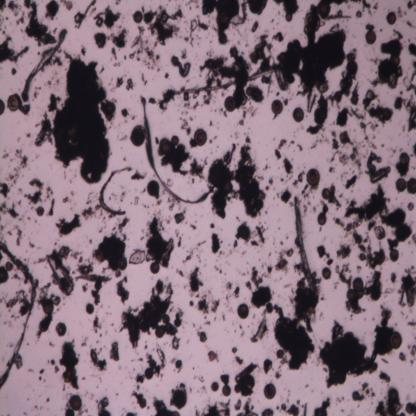Background material: (55, 50, 112, 178), (274, 26, 347, 98), (320, 320, 378, 388), (119, 280, 176, 344), (333, 186, 388, 232), (272, 314, 315, 372), (235, 137, 266, 217), (144, 211, 175, 269), (143, 7, 183, 48), (45, 243, 75, 297), (203, 47, 252, 79), (76, 264, 112, 306), (210, 156, 235, 216), (94, 232, 128, 276), (24, 2, 57, 46), (133, 343, 166, 385), (373, 303, 396, 363), (380, 208, 412, 248), (202, 2, 231, 46), (354, 231, 384, 270), (293, 283, 318, 328), (57, 341, 79, 391), (130, 37, 162, 71), (248, 266, 273, 308), (369, 58, 405, 87), (159, 144, 189, 177), (308, 94, 331, 137), (232, 221, 264, 251), (392, 96, 416, 135), (250, 33, 274, 72), (331, 148, 367, 173), (232, 360, 258, 394), (328, 75, 356, 106), (32, 112, 56, 148), (366, 150, 391, 184), (0, 36, 31, 63), (398, 266, 416, 311), (375, 385, 401, 416), (2, 287, 30, 315), (188, 290, 220, 314), (7, 154, 29, 188), (379, 29, 406, 54), (93, 6, 121, 30), (241, 265, 265, 292), (55, 214, 82, 237), (192, 400, 230, 416), (0, 2, 26, 25), (74, 1, 96, 28), (366, 270, 386, 299), (152, 396, 180, 416), (24, 178, 46, 203), (81, 196, 103, 221), (233, 73, 248, 109), (250, 318, 270, 345), (88, 345, 107, 373), (351, 380, 375, 402), (170, 52, 191, 77), (181, 92, 213, 108), (360, 122, 378, 150), (347, 289, 367, 314), (231, 1, 249, 28), (188, 264, 205, 292), (333, 262, 352, 287), (275, 248, 293, 274), (109, 29, 129, 52), (189, 158, 207, 182), (404, 61, 416, 95), (236, 397, 257, 416), (246, 0, 268, 18), (116, 277, 131, 303), (35, 315, 53, 336), (336, 105, 352, 128), (95, 396, 113, 416), (0, 202, 20, 220), (188, 17, 210, 33), (160, 85, 175, 108), (314, 396, 332, 415), (280, 0, 300, 17), (211, 231, 224, 257), (324, 10, 352, 22), (362, 88, 378, 109), (338, 130, 356, 148), (265, 300, 284, 317), (318, 243, 332, 266), (278, 186, 294, 206), (45, 187, 56, 216), (48, 92, 62, 114), (336, 243, 354, 260), (341, 173, 358, 191), (328, 186, 342, 207), (93, 30, 107, 51), (350, 80, 360, 108), (179, 117, 193, 137), (109, 341, 121, 364), (132, 389, 146, 408), (130, 248, 146, 264), (223, 281, 240, 296), (46, 2, 60, 20), (273, 140, 286, 159), (282, 403, 300, 416), (129, 170, 148, 182), (91, 314, 103, 333), (350, 108, 366, 122), (250, 86, 264, 102), (13, 226, 24, 246), (172, 308, 184, 326), (282, 158, 294, 176), (117, 215, 130, 231), (407, 341, 416, 363), (369, 108, 383, 122), (171, 358, 183, 374), (361, 0, 373, 16), (0, 183, 10, 201), (293, 170, 304, 186), (113, 75, 126, 88), (272, 30, 286, 42), (173, 212, 186, 224), (378, 370, 392, 381), (220, 372, 230, 387), (165, 197, 178, 208), (170, 336, 180, 350), (263, 359, 272, 374), (408, 42, 416, 58), (262, 75, 272, 87), (262, 406, 274, 416), (332, 132, 338, 151), (234, 399, 242, 413), (407, 0, 416, 12), (396, 6, 404, 19), (126, 78, 134, 91), (121, 108, 129, 121), (251, 21, 259, 34), (321, 202, 329, 214), (303, 400, 309, 416), (198, 330, 206, 342), (389, 272, 397, 284), (133, 195, 140, 208), (10, 66, 19, 76), (406, 319, 416, 328), (355, 9, 363, 20), (183, 252, 192, 261), (234, 358, 244, 366), (231, 344, 239, 354), (162, 71, 170, 81), (190, 137, 197, 148), (62, 196, 70, 204), (64, 2, 72, 10), (296, 144, 304, 152), (406, 20, 413, 29), (400, 353, 406, 362), (408, 203, 414, 210), (142, 76, 147, 84)
Cellulose filter fibre: (0, 242, 36, 389), (21, 31, 67, 104), (292, 195, 319, 298), (180, 68, 277, 92), (99, 168, 129, 216)
Diatom: (169, 381, 188, 408), (388, 330, 404, 348), (306, 168, 321, 187), (305, 13, 320, 32), (158, 139, 172, 158), (224, 95, 237, 113), (237, 303, 250, 320), (316, 2, 331, 16), (345, 61, 360, 75), (263, 383, 276, 399), (147, 180, 159, 197), (388, 246, 399, 264), (292, 108, 305, 123), (218, 10, 230, 26), (132, 130, 144, 146), (352, 277, 364, 292), (406, 177, 416, 195), (271, 99, 283, 114), (43, 300, 55, 315), (70, 394, 81, 410), (398, 150, 410, 164), (365, 30, 376, 45), (195, 129, 206, 144), (56, 323, 67, 337), (382, 107, 392, 122), (0, 268, 10, 283), (389, 53, 402, 64), (170, 134, 180, 148), (387, 12, 396, 26), (9, 97, 18, 111), (107, 101, 116, 115), (322, 266, 331, 280), (397, 178, 406, 192), (321, 188, 331, 200), (404, 404, 416, 414), (118, 258, 128, 270), (134, 10, 143, 23), (222, 385, 232, 396), (346, 289, 356, 300), (150, 262, 160, 273), (207, 350, 216, 362), (155, 327, 164, 339), (210, 380, 219, 392), (224, 182, 233, 193), (85, 303, 94, 314), (246, 85, 254, 97), (36, 206, 45, 216), (0, 98, 5, 116), (318, 214, 326, 225), (285, 13, 293, 22)
Microfibre: (141, 99, 235, 206)
